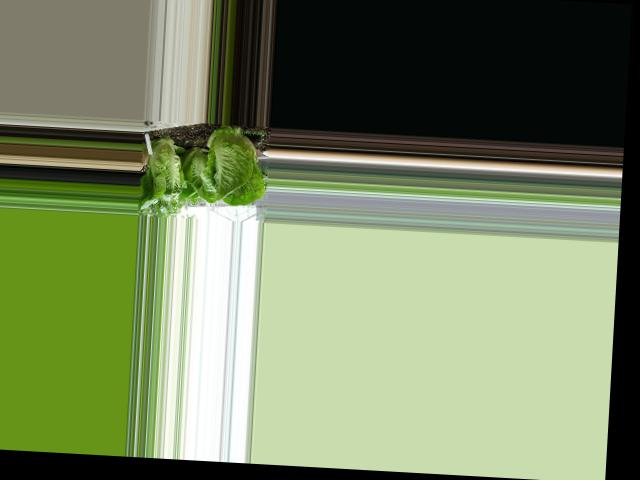lettuce: (143, 127, 190, 210)
